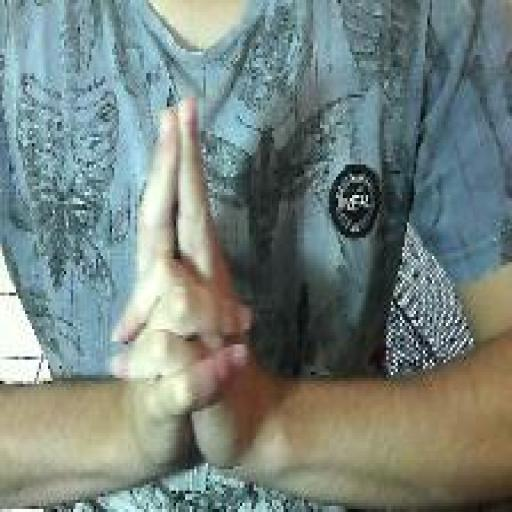Tora -tiger-: (106, 90, 257, 492)
